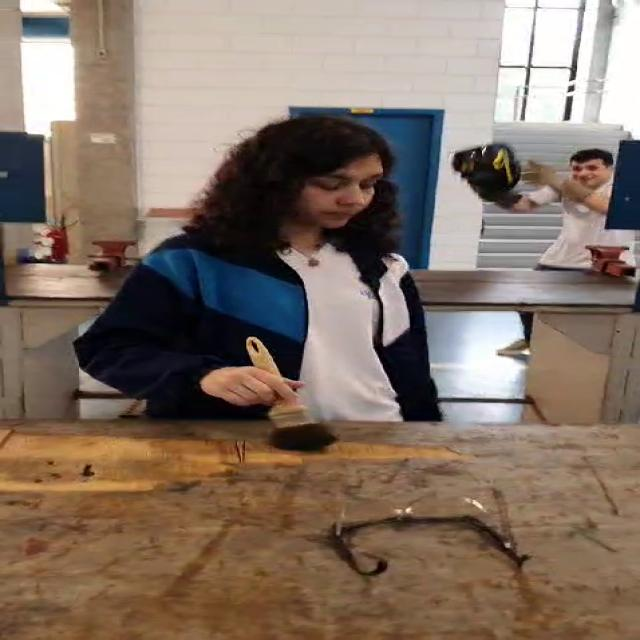sem_oculos: (284, 170, 402, 198)
